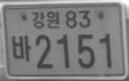1: (56, 34, 74, 70), (99, 33, 114, 69)
2: (35, 33, 53, 70)
3: (79, 10, 90, 28)
5: (77, 33, 96, 69)
8: (65, 10, 77, 29)
강원_H: (31, 9, 61, 31)
바: (11, 35, 31, 61)
